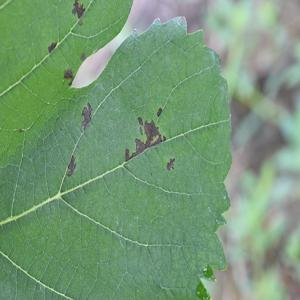Folha: (0, 0, 232, 299)
Fungo: (70, 27, 138, 89), (125, 106, 166, 162), (67, 101, 92, 177), (142, 117, 162, 148), (72, 0, 85, 26), (81, 102, 92, 130), (67, 154, 76, 176), (63, 66, 73, 79), (137, 116, 143, 136), (166, 157, 175, 170), (48, 41, 57, 53), (72, 0, 78, 16), (124, 148, 130, 161), (131, 28, 138, 38), (156, 107, 162, 118), (80, 51, 86, 61), (137, 116, 143, 126), (77, 18, 83, 26), (68, 78, 73, 85), (18, 128, 22, 132)
